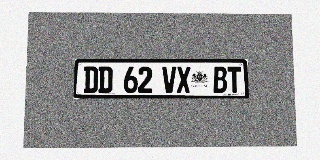2: (138, 66, 152, 93)
6: (124, 66, 138, 93)
B: (213, 67, 227, 93)
D: (83, 66, 98, 93), (98, 66, 113, 93)
T: (227, 67, 242, 93)
V: (162, 66, 176, 93)
X: (177, 67, 191, 93)
